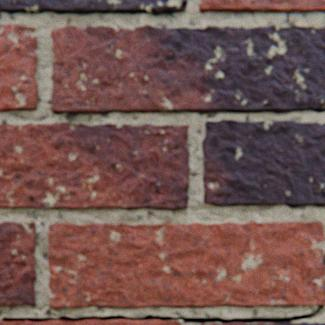brick: (51, 26, 324, 115), (48, 222, 324, 308), (0, 123, 189, 211), (202, 121, 324, 207), (0, 24, 38, 113), (0, 222, 36, 306), (0, 0, 187, 16), (199, 0, 324, 14), (0, 319, 183, 324), (251, 322, 324, 324), (226, 322, 247, 324), (201, 323, 220, 324)
crack: (2, 251, 324, 324)
